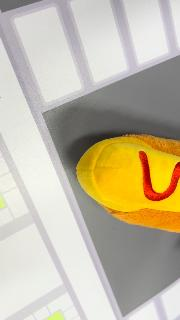hotdog: (75, 133, 179, 233)
